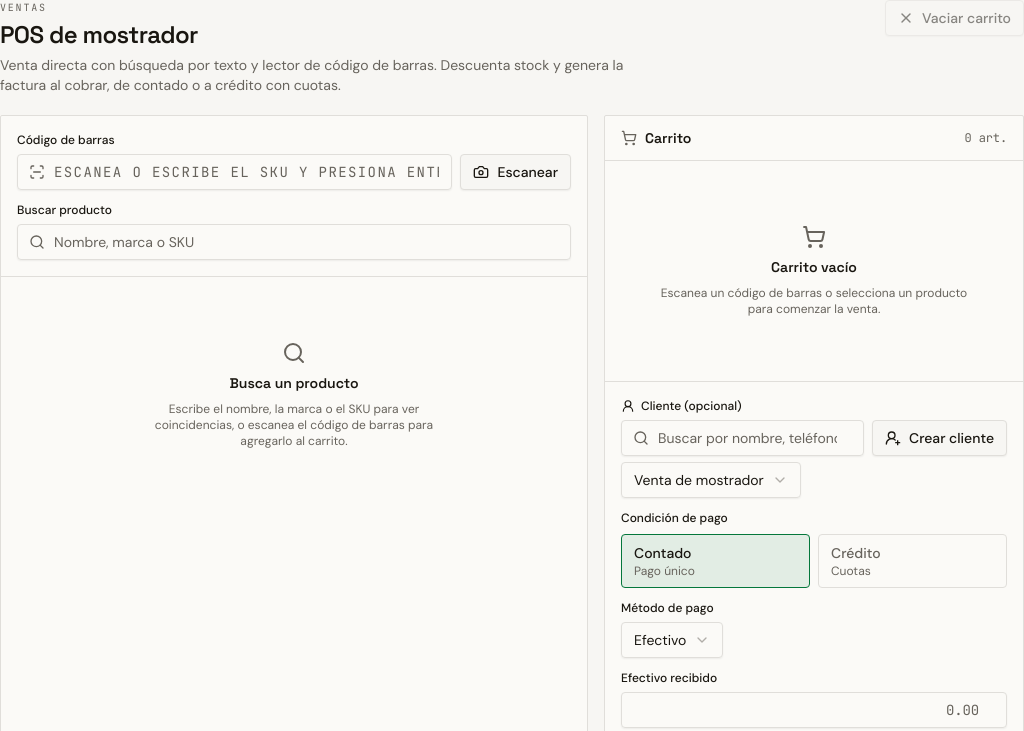
PosPage customer seam › blocks the notify send when the selected customer has no email
Click the dropdown with test id "pos.customer_select": (711,480) [621,462,801,498]
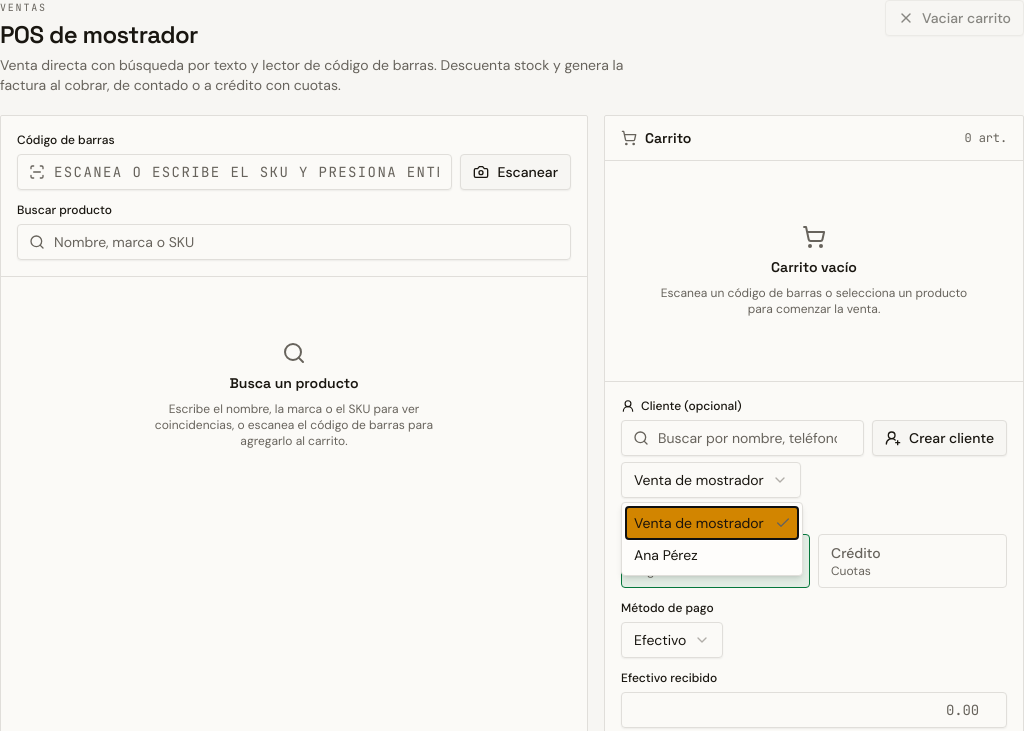
Click the option "Ana Pérez": (666,555) [634,546,698,564]
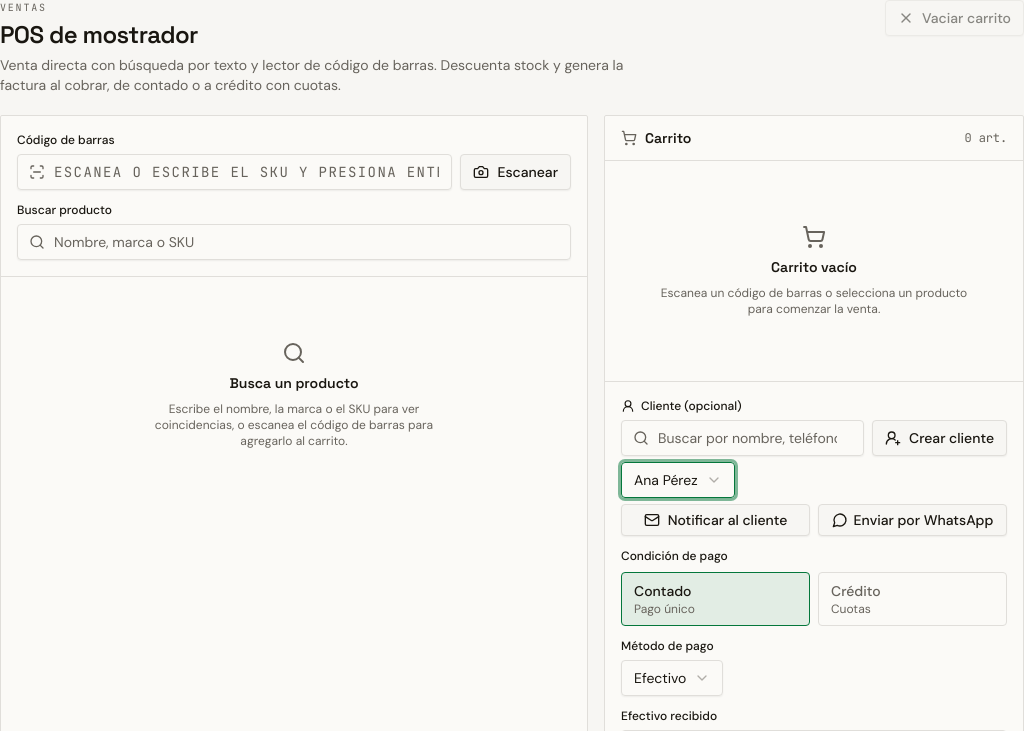
Click the button with test id "pos.notify_button": (716,520) [621,504,810,536]
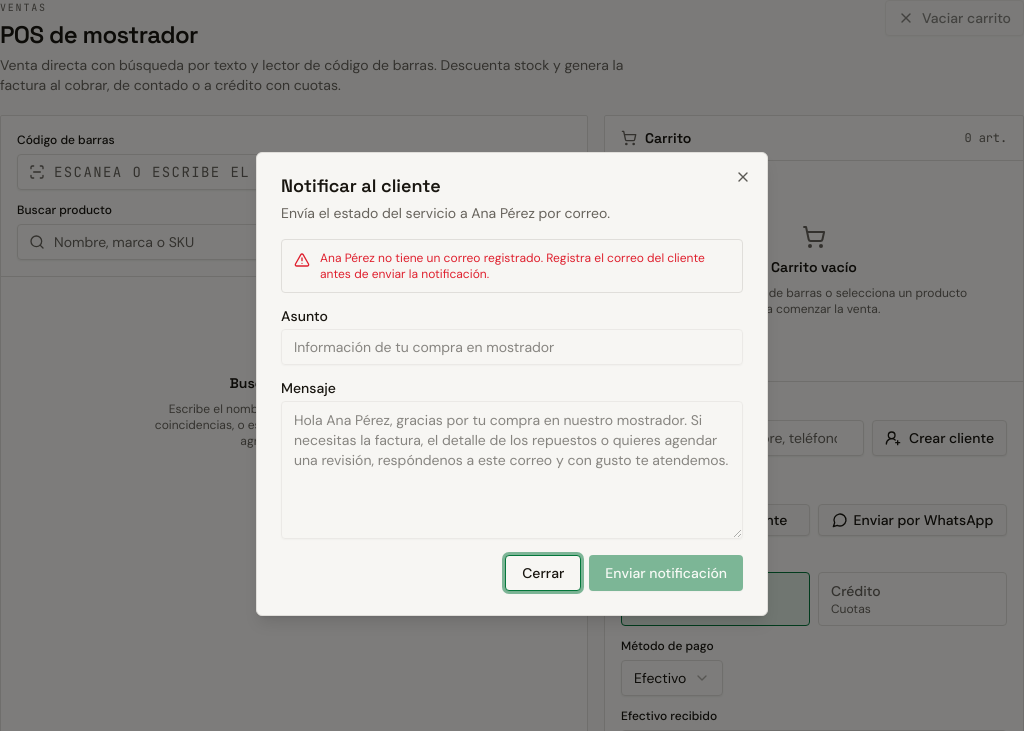
Result: the element with test id "notify.no_email_state" is shown at [281,239,743,293]
Result: the button with test id "notify.submit_button" is disabled at [589,555,743,591]
